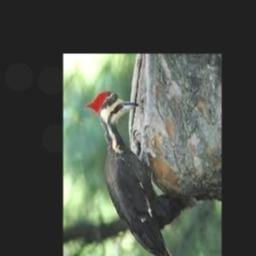Woodpecker: (86, 91, 180, 256)
